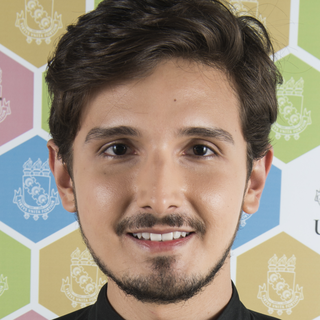eye: (93, 138, 140, 164), (179, 139, 225, 164)
